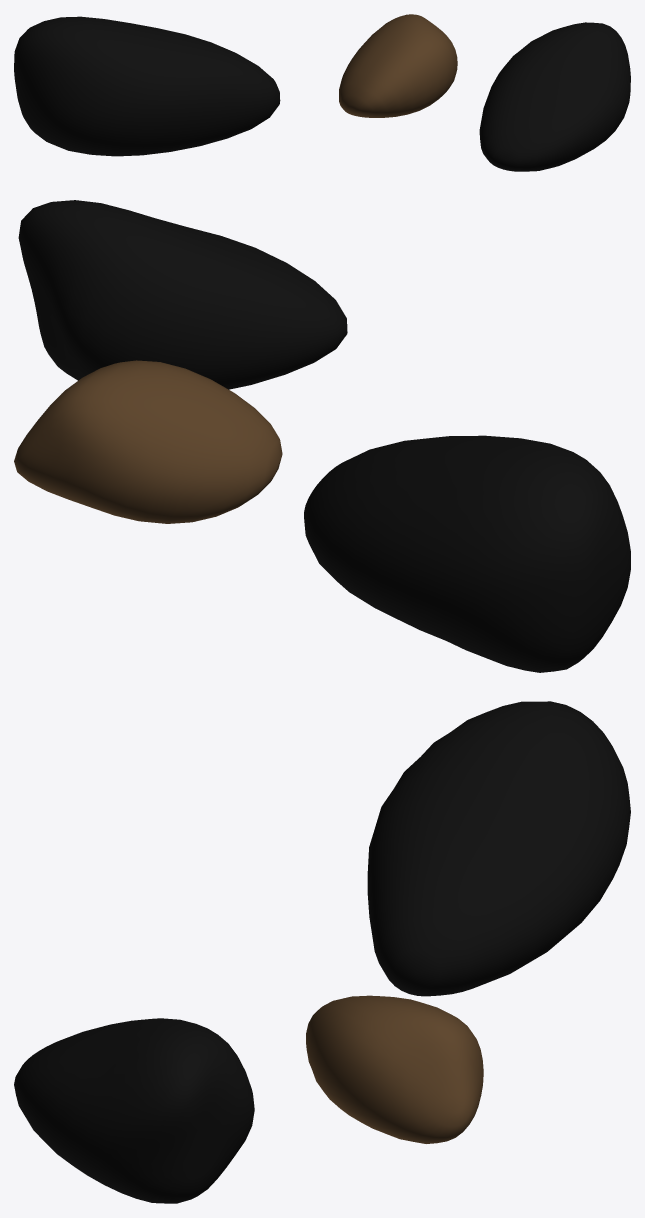
File: Rock_Deco.fbx
The picture shows the model from 3 angles, top to bottom: view 1: azimuth 30°, elevation 25°; view 2: azimuth 150°, elevation 25°; view 3: azimuth 270°, elevation 25°; orthographic projection. The views are drawn at different scales.
Visible parts, largest first — view 1: Rock_Deco; view 2: Rock_Deco; view 3: Rock_Deco.
Boxes of the visible parts, box(x1,y1,x2,y2) form: Rock_Deco: box(14, 14, 630, 171); Rock_Deco: box(14, 200, 630, 672); Rock_Deco: box(14, 701, 630, 1203).
Bounding box in the file's own units: 67.19 × 16.85 × 48.44.
